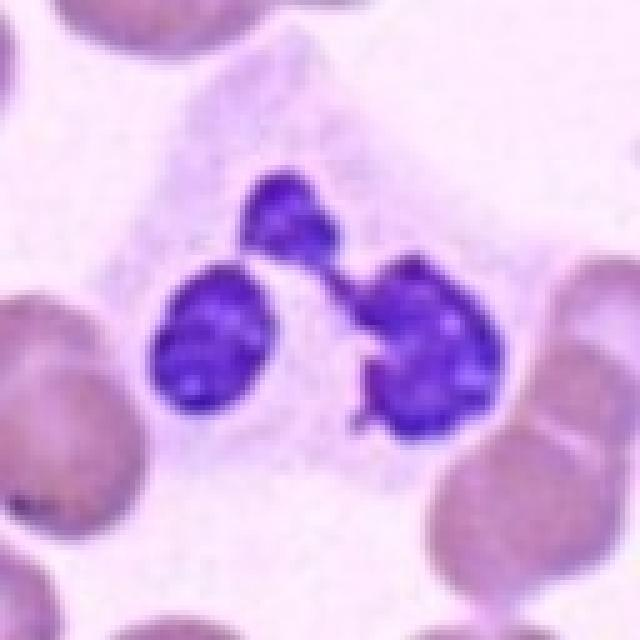neutro: (105, 128, 563, 525)
